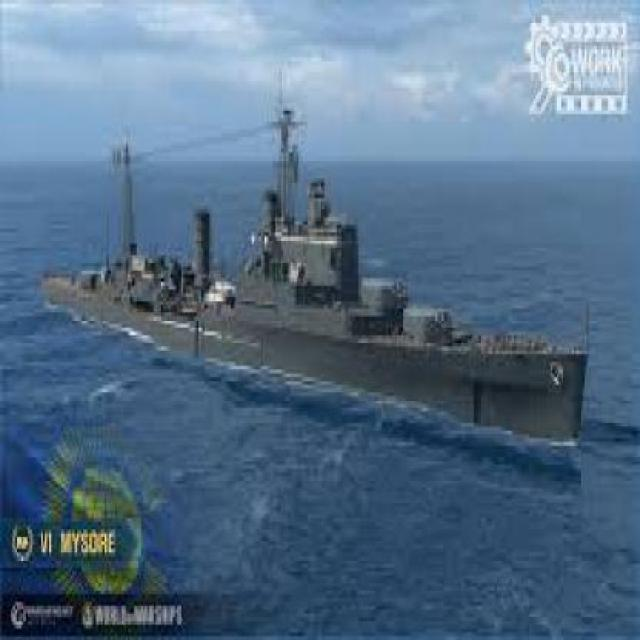warship2: (35, 39, 601, 462)
